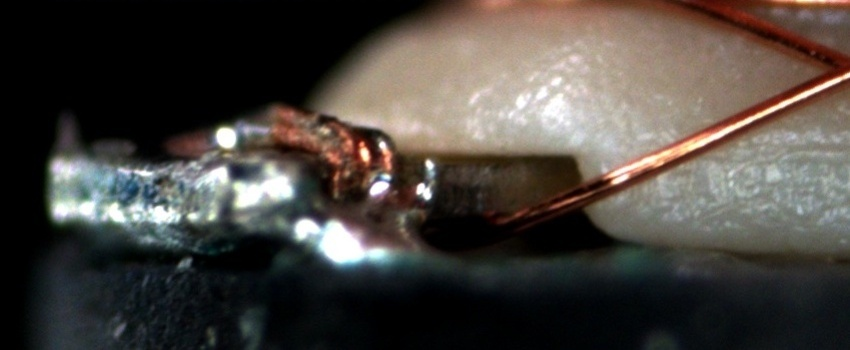CL: (797, 41, 850, 98)
DL: (700, 119, 850, 183)
TE: (298, 112, 399, 203)
